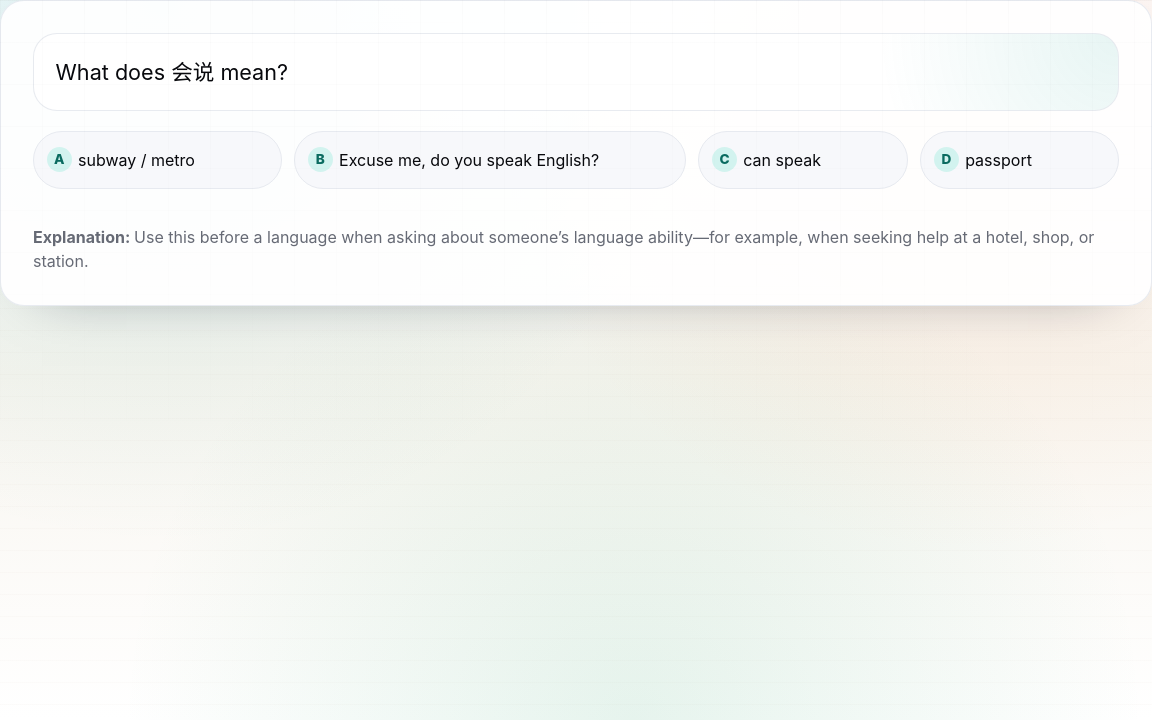
Test: PracticeChallenge › shows feedback on an incorrect answer and reveals the correct answer
The width and height of the screenshot is (1152, 720).
Click the button "A subway / metro": (158, 160) 34,132 -> 281,188
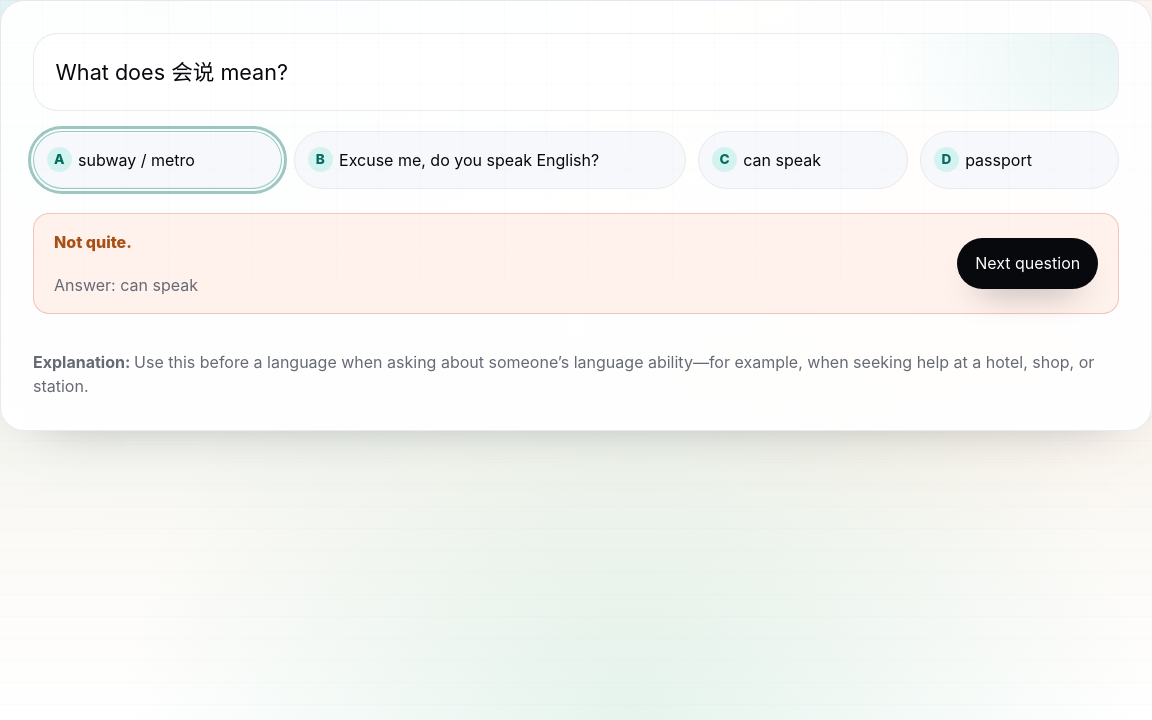
Expected: the text "Not quite." is shown, 54,232 -> 132,252
